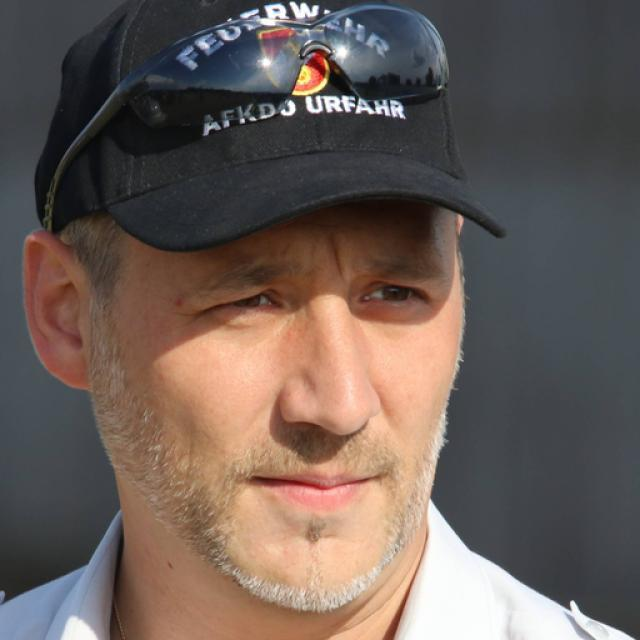content: (92, 185, 461, 613)
